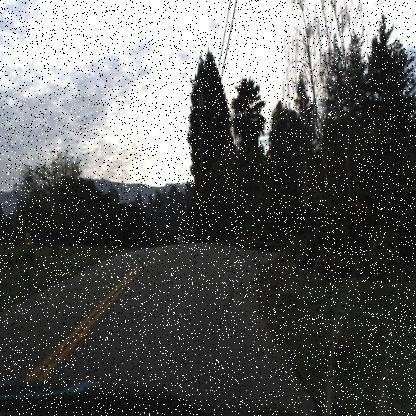car: (174, 228, 188, 245), (176, 233, 186, 244)
